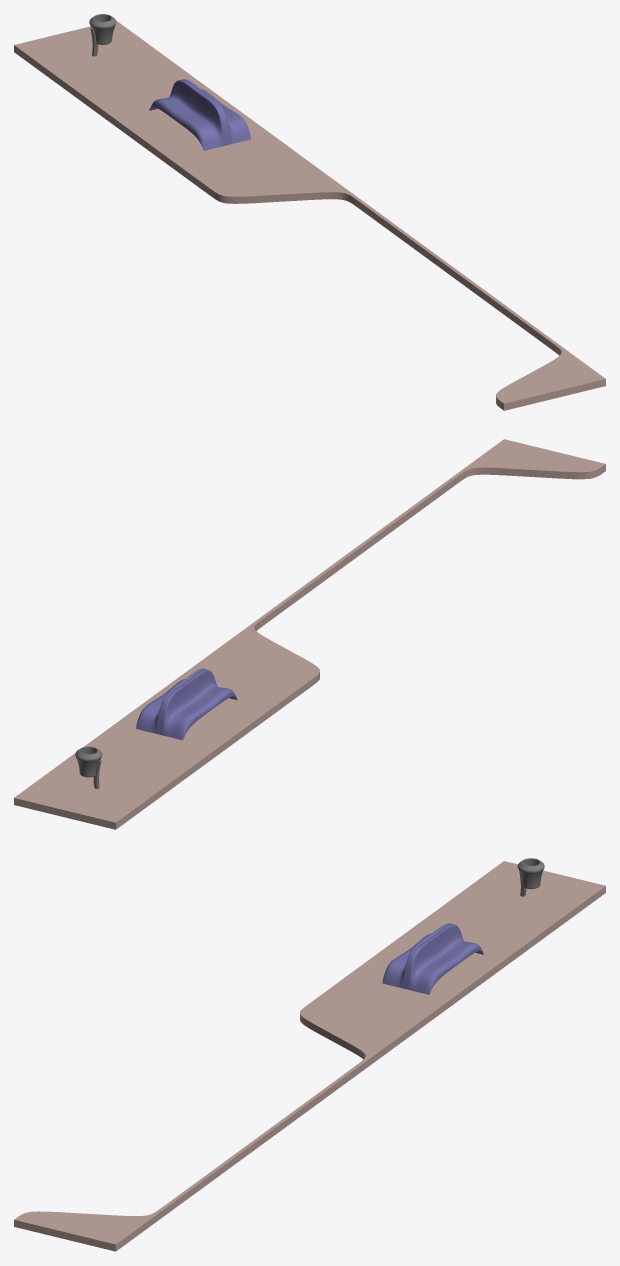
The model's file is StreetElements.fbx.
3 renders of one model, top to bottom at view 1: azimuth 30°, elevation 25°; view 2: azimuth 150°, elevation 25°; view 3: azimuth 330°, elevation 25°, orthographic.
Parts seen in each view (by area): view 1: Object, Object.001, Object.002; view 2: Object, Object.001, Object.002; view 3: Object, Object.001, Object.002.
Boxes of the visible parts, x1,y1,x2,y2 form: Object: (14,20,605,410); Object.001: (149,79,250,150); Object.002: (89,14,116,56); Object: (14,439,605,829); Object.001: (136,668,237,740); Object.002: (75,746,102,788); Object: (14,861,605,1251); Object.001: (382,923,483,994); Object.002: (517,858,544,896).
Bounding box in the file's own units: 300 × 119 × 2500.
